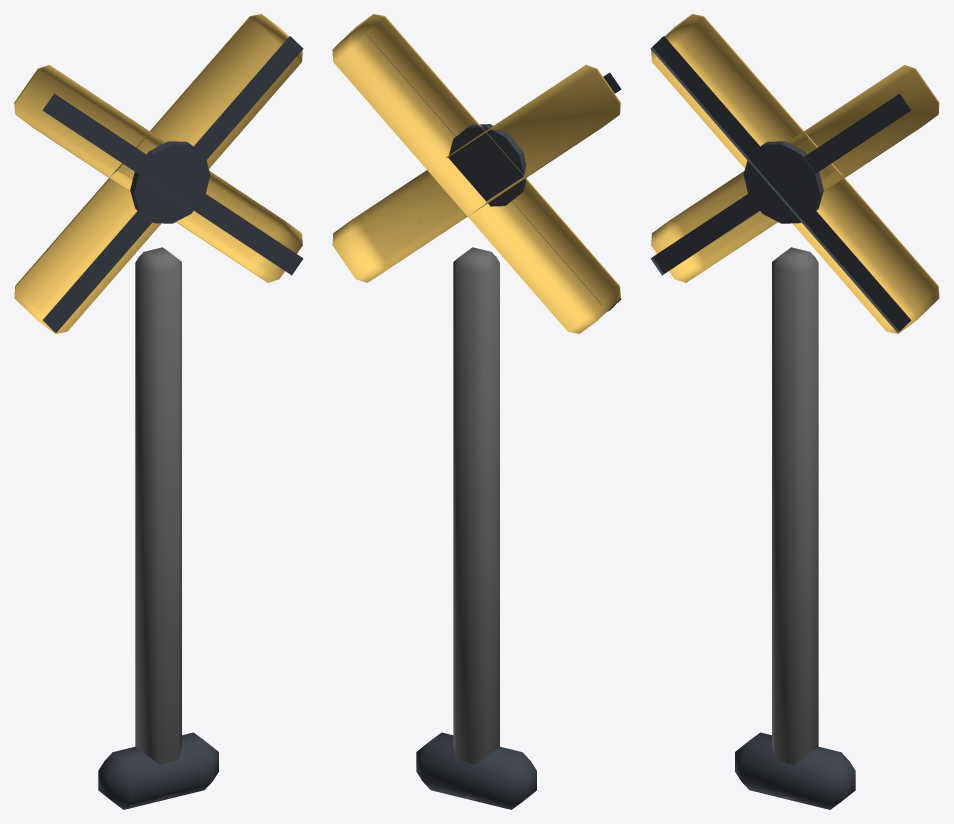
File: crossing-sign.glb
The picture shows the model from 3 angles, left to right: view 1: azimuth 30°, elevation 25°; view 2: azimuth 150°, elevation 25°; view 3: azimuth 330°, elevation 25°; orthographic projection.
Parts seen in each view (by area): view 1: crossing-sign; view 2: crossing-sign; view 3: crossing-sign.
Boxes of the visible parts, bbox=[...] form: crossing-sign: bbox=[14, 14, 303, 809]; crossing-sign: bbox=[332, 14, 621, 809]; crossing-sign: bbox=[650, 14, 939, 809].
Bounding box in the file's own units: 1.14 × 3.01 × 0.2125.
